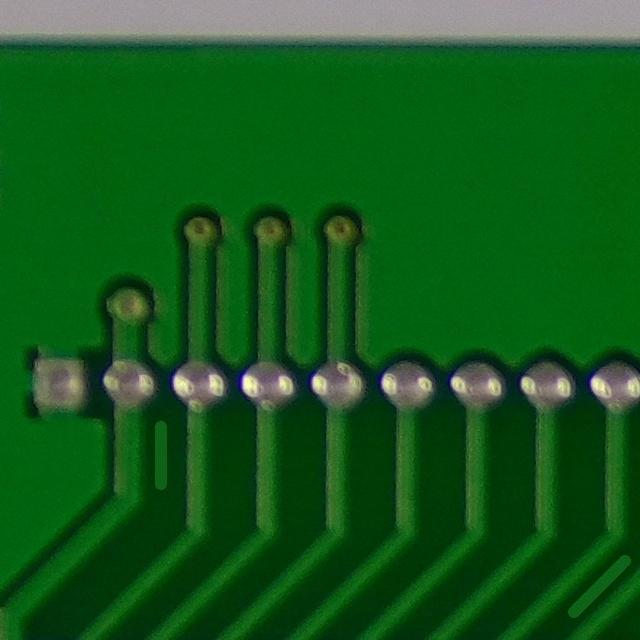spurious_copper: (537, 536, 640, 625), (141, 405, 190, 502)
